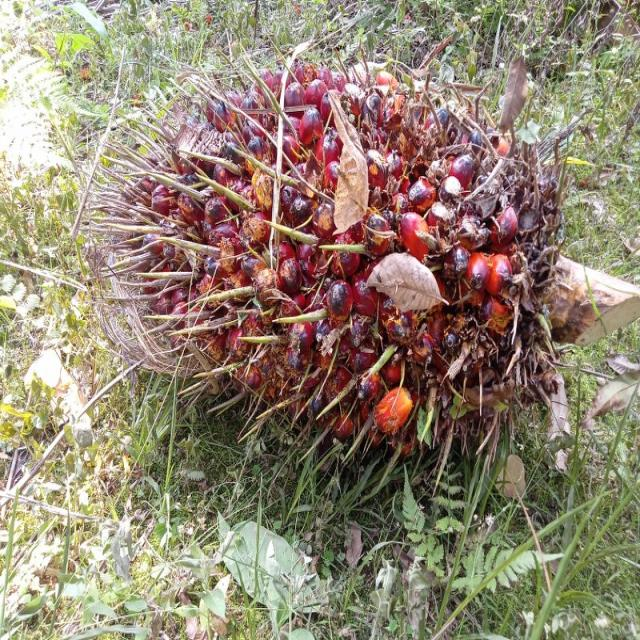fraksi 1: (95, 29, 604, 522)
